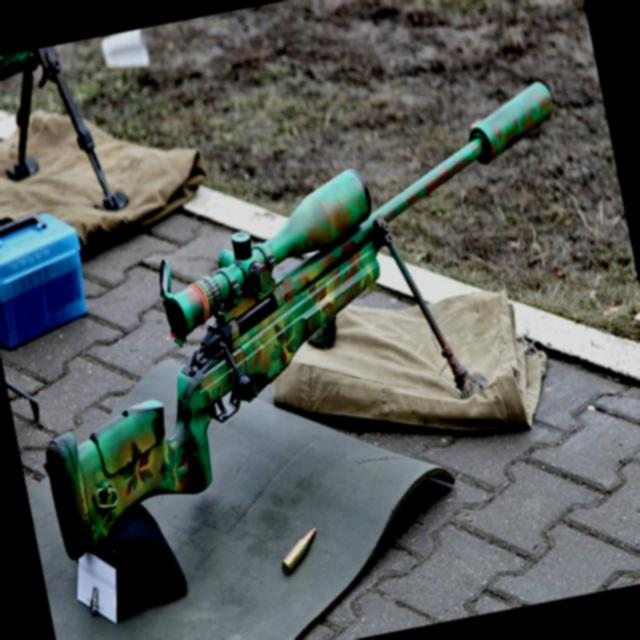rifle: (0, 54, 640, 581)
